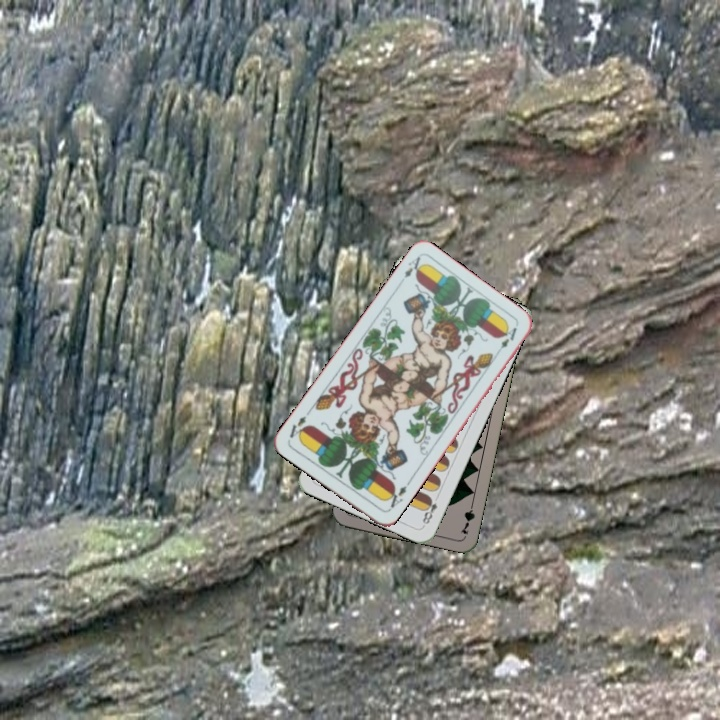E8: (418, 491, 442, 529)
EA: (381, 478, 413, 513), (400, 252, 426, 281)
G7: (456, 497, 478, 537)
